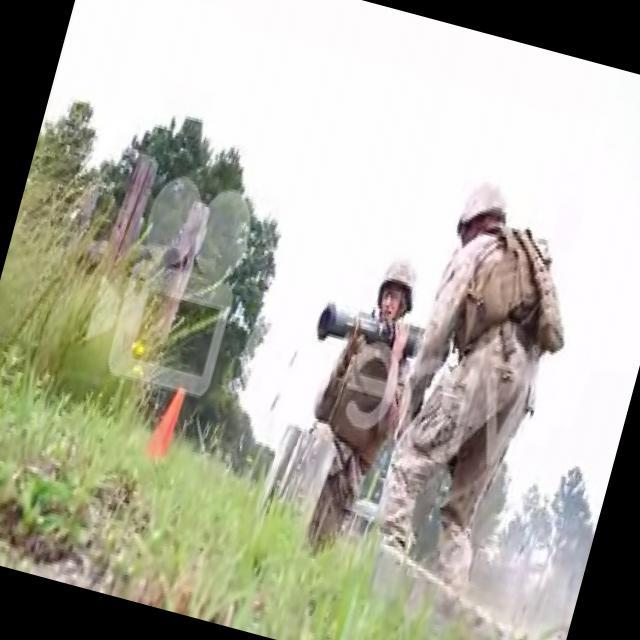rocket: (314, 290, 430, 364)
